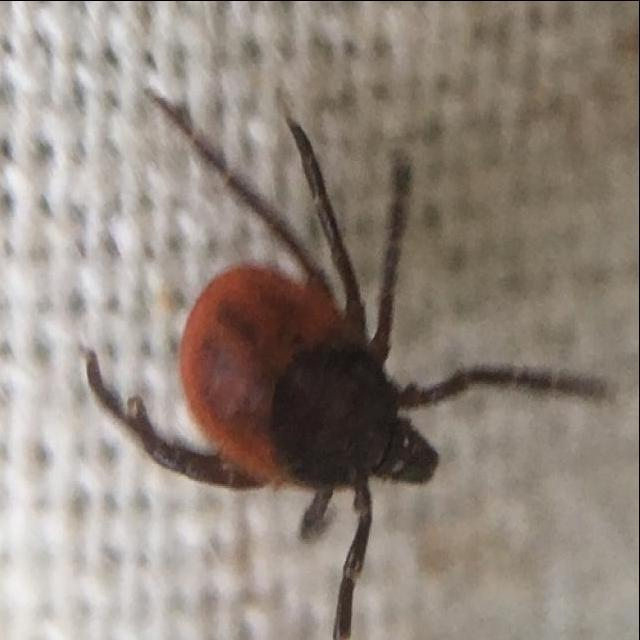Ixodes Ricinus-F: (84, 87, 611, 637)
